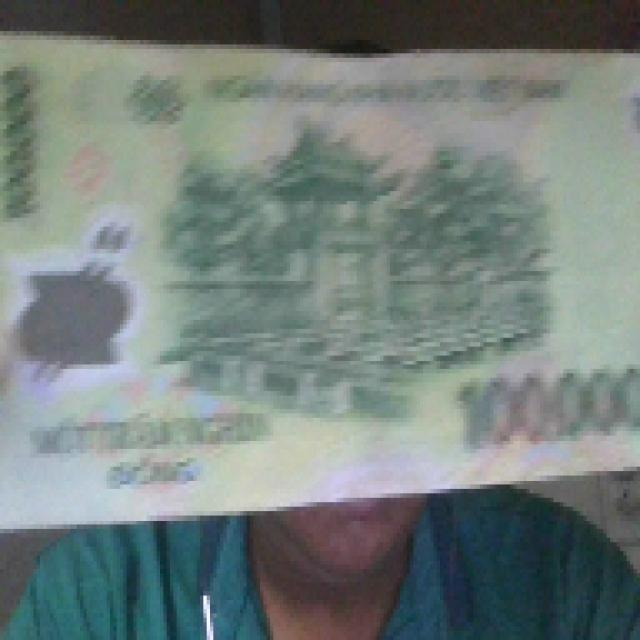100 000 VND: (0, 27, 637, 533)
